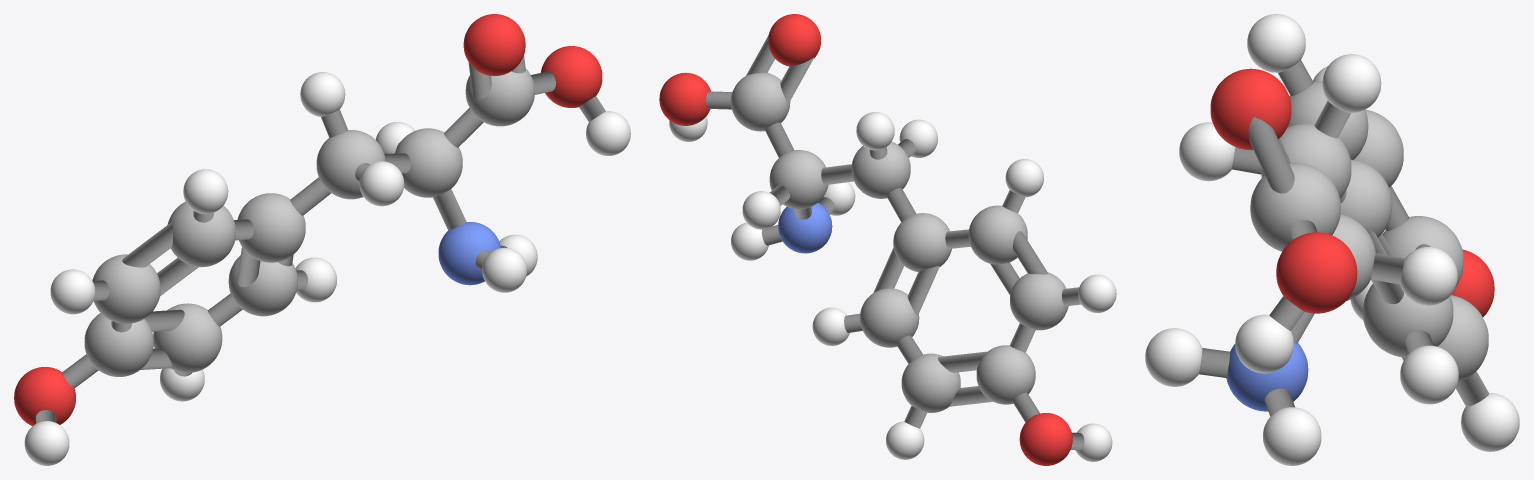
The model's file is tyrosine.glb.
3 views of the same model, side by side, from view 1: azimuth 30°, elevation 25°; view 2: azimuth 150°, elevation 25°; view 3: azimuth 270°, elevation 25° (orthographic). The views are drawn at different scales.
Visible parts, largest first — view 1: Object_3, Object_5, Object_7, Object_4, Object_2, Object_6; view 2: Object_3, Object_7, Object_5, Object_4, Object_2, Object_6; view 3: Object_3, Object_5, Object_4, Object_7, Object_2, Object_6.
Part boxes in pixels (left/top/right/bottom): Object_3: left=84, top=68, right=534, bottom=376; Object_5: left=24, top=72, right=537, bottom=465; Object_7: left=35, top=56, right=605, bottom=423; Object_4: left=14, top=14, right=602, bottom=426; Object_2: left=438, top=222, right=500, bottom=285; Object_6: left=586, top=111, right=630, bottom=155; Object_3: left=731, top=73, right=1068, bottom=412; Object_7: left=706, top=35, right=1084, bottom=450; Object_5: left=731, top=112, right=1116, bottom=461; Object_4: left=659, top=14, right=1072, bottom=465; Object_2: left=778, top=203, right=832, bottom=253; Object_6: left=669, top=116, right=707, bottom=141; Object_3: left=1250, top=81, right=1488, bottom=382; Object_5: left=1145, top=14, right=1519, bottom=465; Object_4: left=1210, top=68, right=1494, bottom=316; Object_7: left=1199, top=60, right=1489, bottom=416; Object_2: left=1226, top=343, right=1308, bottom=411; Object_6: left=1235, top=314, right=1293, bottom=373.
Size of the model in its own units: 9.42 by 6.4 by 4.2.
